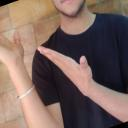hand: (36, 45, 93, 96), (0, 31, 26, 66)
